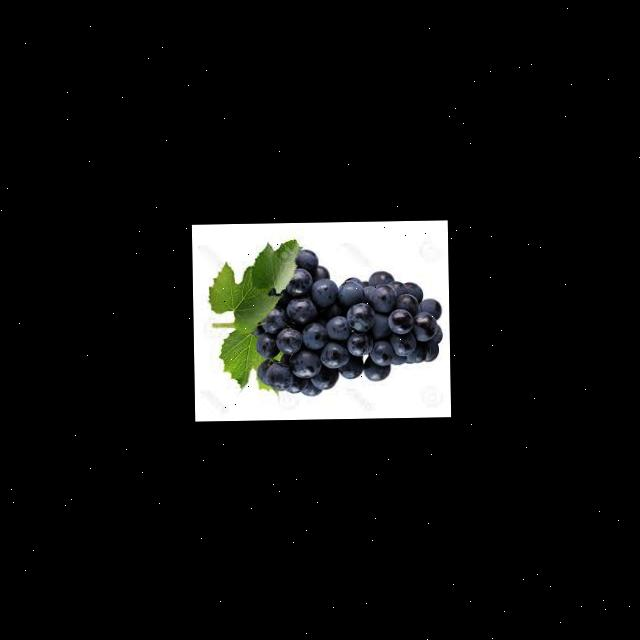grape: (250, 247, 442, 398)
